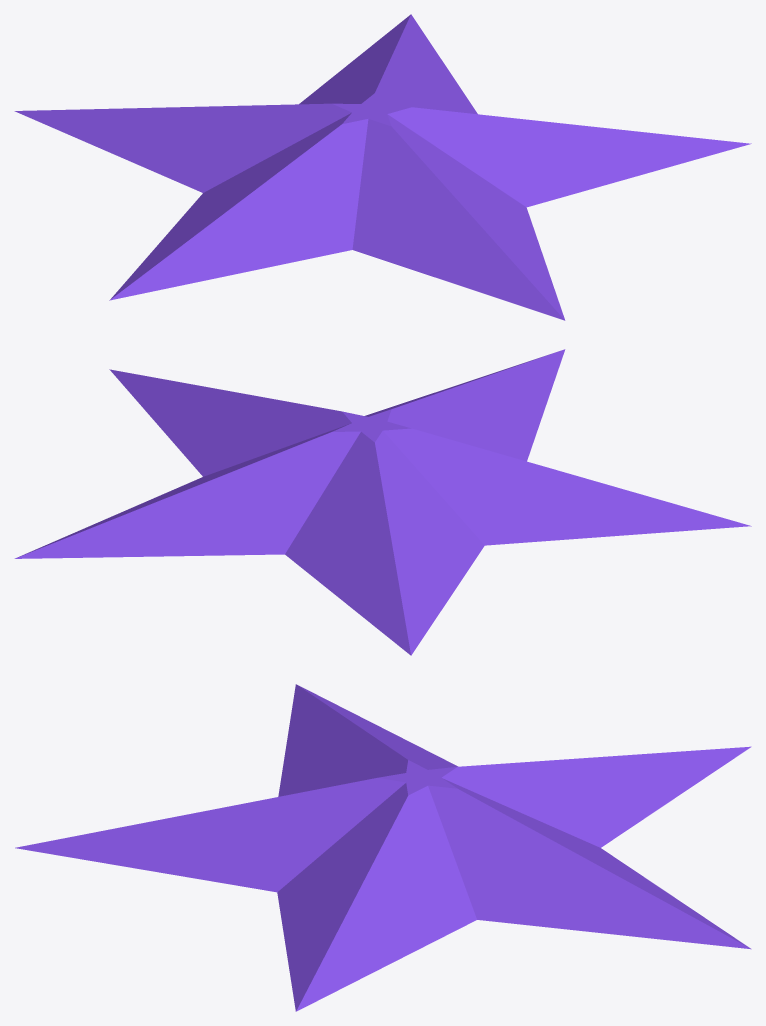
The model's file is Purple Starfish.fbx.
The picture shows the model from 3 angles, top to bottom: view 1: azimuth 30°, elevation 25°; view 2: azimuth 150°, elevation 25°; view 3: azimuth 270°, elevation 25°; orthographic projection. The views are drawn at different scales.
Parts seen in each view (by area): view 1: Circle; view 2: Circle; view 3: Circle.
Part boxes in pixels (x1,y1,x2,y2): Circle: (14, 14, 751, 320); Circle: (14, 349, 751, 655); Circle: (15, 684, 751, 1011).
Bounding box in the file's own units: 434 × 43.32 × 413.
